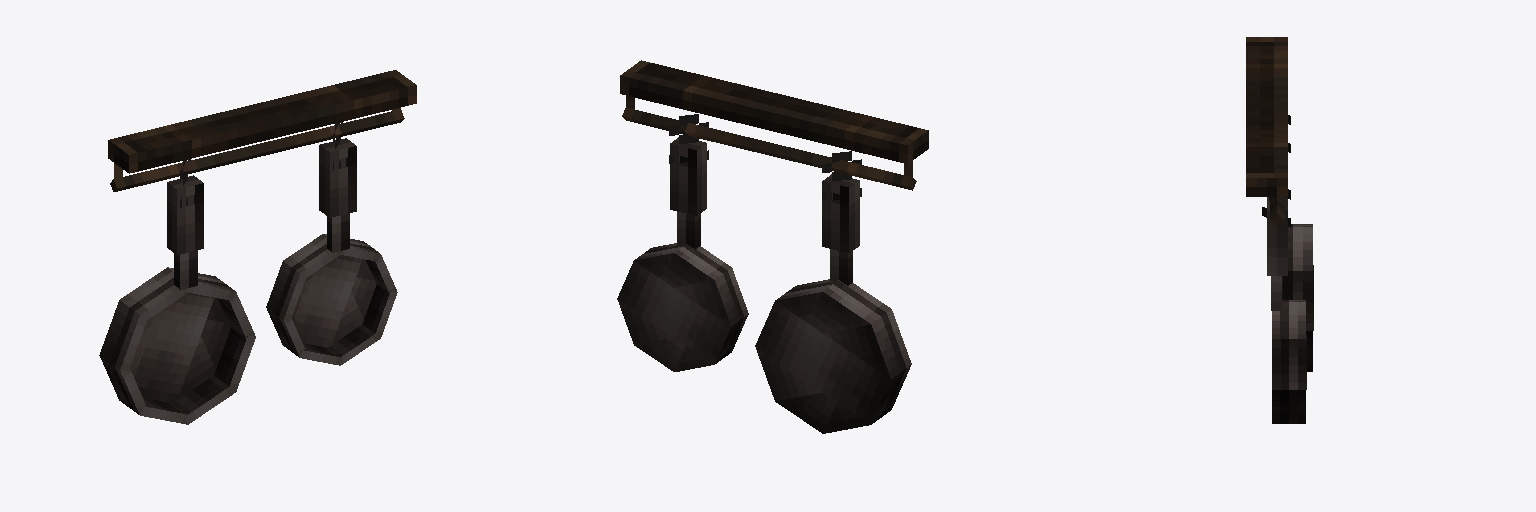
The picture shows the model from 3 angles: view 1: azimuth 30°, elevation 25°; view 2: azimuth 150°, elevation 25°; view 3: azimuth 270°, elevation 25°; orthographic projection.
Parts seen in each view (by area): view 1: cube; view 2: cube; view 3: cube.
Part boxes in pixels (bbox=[...]): cube: bbox=[99, 70, 416, 424]; cube: bbox=[617, 60, 928, 433]; cube: bbox=[1246, 37, 1313, 423].
Bounding box in the file's own units: 1 × 0.9868 × 0.2031.
Materials: 2 (2 with a texture image).